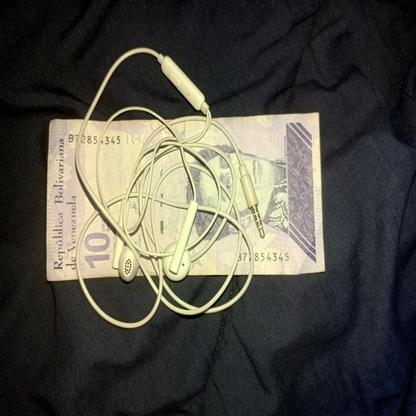ten-front-vef: (47, 109, 326, 281)
